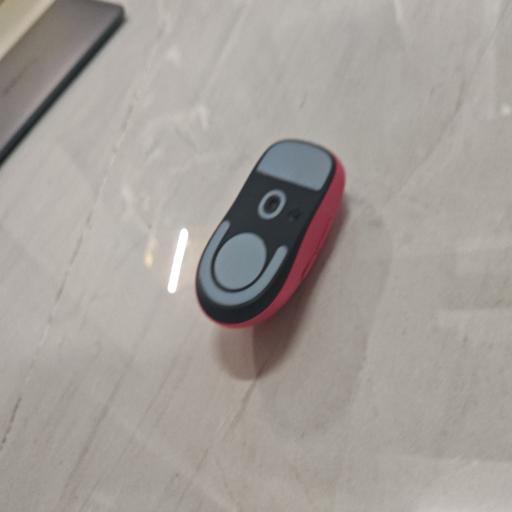mouse: (196, 140, 345, 326)
